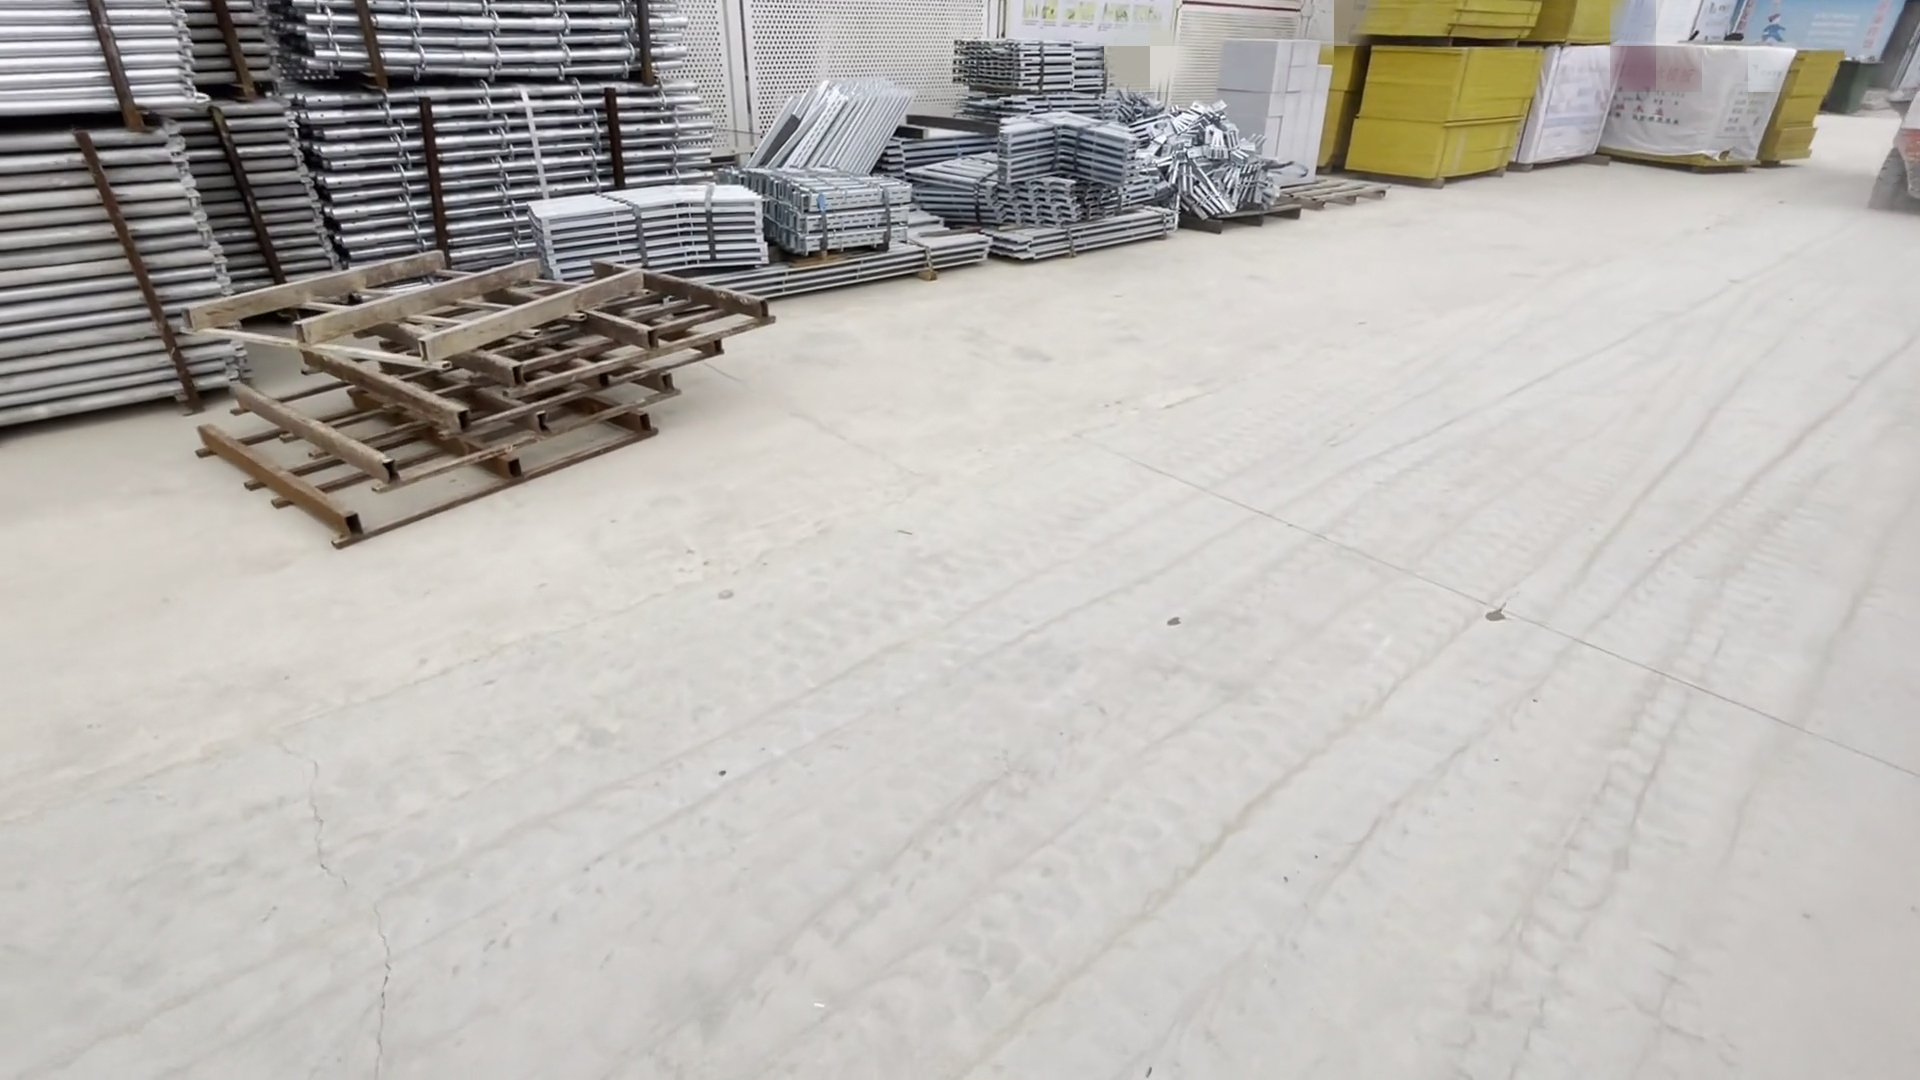board: (1365, 1, 1545, 193)
brick: (1215, 29, 1335, 194)
scaffold: (28, 9, 754, 422), (762, 49, 1304, 307)
